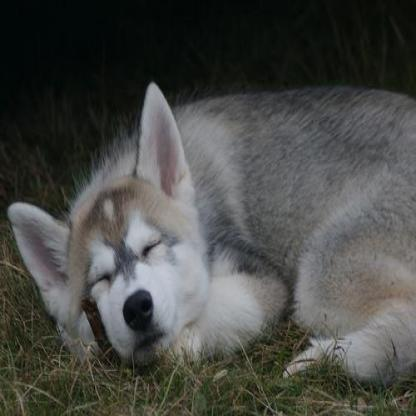malamute: (6, 76, 414, 394)
